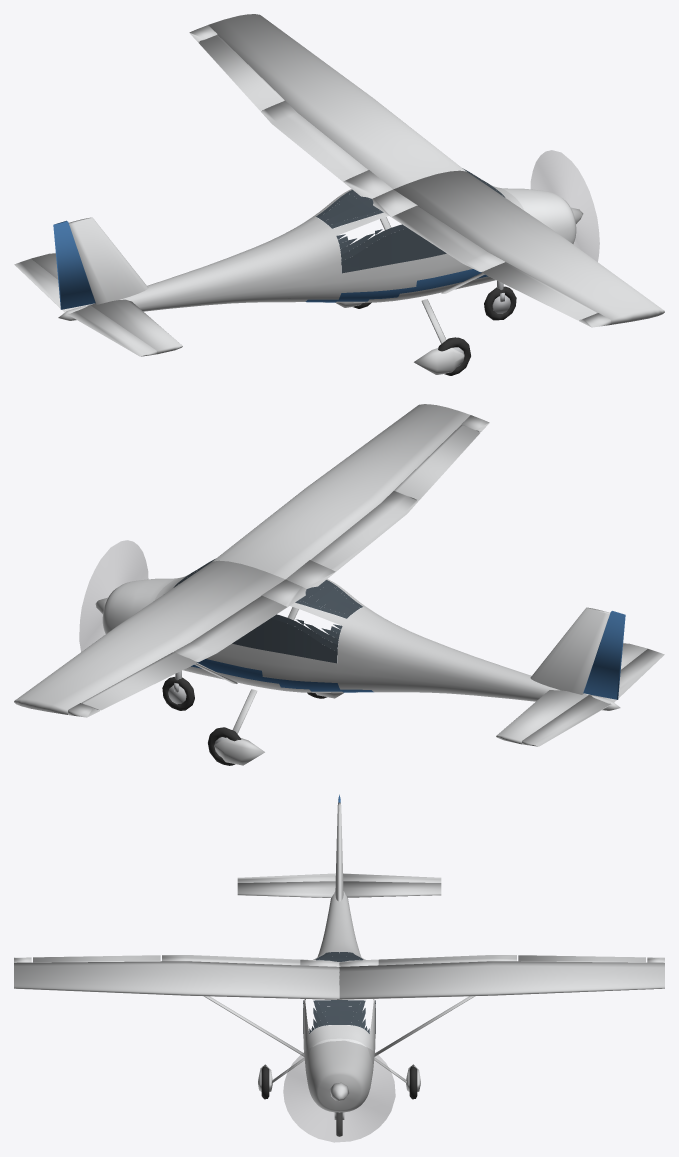
Rendered from wren_lod1.glb.
3 renders of one model, top to bottom at view 1: azimuth 30°, elevation 25°; view 2: azimuth 150°, elevation 25°; view 3: azimuth 270°, elevation 25°, orthographic. The views are drawn at different scales.
Visible parts, largest first — view 1: fuselage, wing_L, wing_R, glass, fin, prop_1_disc, flap_L_1, flap_R_1, elevator, stabilizer, rudder, aileron_L (+3 smaller); view 2: fuselage, wing_R, wing_L, glass, fin, prop_1_disc, flap_R_1, flap_L_1, elevator, stabilizer, rudder, aileron_R (+3 smaller); view 3: wing_R, wing_L, prop_1_disc, fuselage, stabilizer, glass, elevator, flap_R_1, flap_L_1, aileron_R, aileron_L, fin.
Part boxes in pixels (x1=…): fuselage: x1=58, y1=185, x2=576, y2=320; wing_L: x1=189, y1=14, x2=466, y2=198; wing_R: x1=372, y1=170, x2=664, y2=327; glass: x1=316, y1=168, x2=505, y2=273; fin: x1=68, y1=217, x2=148, y2=304; prop_1_disc: x1=531, y1=150, x2=599, y2=261; flap_L_1: x1=260, y1=101, x2=367, y2=181; flap_R_1: x1=391, y1=205, x2=504, y2=271; elevator: x1=14, y1=258, x2=156, y2=356; stabilizer: x1=31, y1=253, x2=182, y2=354; rudder: x1=53, y1=220, x2=95, y2=309; aileron_L: x1=198, y1=35, x2=284, y2=110; fuselage: x1=102, y1=575, x2=620, y2=710; wing_R: x1=212, y1=404, x2=489, y2=588; wing_L: x1=14, y1=560, x2=306, y2=717; glass: x1=173, y1=559, x2=362, y2=663; fin: x1=530, y1=607, x2=610, y2=694; prop_1_disc: x1=79, y1=540, x2=148, y2=651; flap_R_1: x1=310, y1=491, x2=418, y2=571; flap_L_1: x1=174, y1=596, x2=287, y2=662; elevator: x1=522, y1=649, x2=664, y2=746; stabilizer: x1=496, y1=643, x2=647, y2=744; rudder: x1=583, y1=611, x2=625, y2=699; aileron_R: x1=394, y1=425, x2=480, y2=500; wing_R: x1=14, y1=957, x2=339, y2=999; wing_L: x1=339, y1=957, x2=664, y2=999; prop_1_disc: x1=283, y1=1041, x2=395, y2=1142; fuselage: x1=303, y1=891, x2=375, y2=1112; stabilizer: x1=237, y1=881, x2=441, y2=897; glass: x1=303, y1=952, x2=375, y2=1033; elevator: x1=237, y1=873, x2=441, y2=882; flap_R_1: x1=162, y1=955, x2=300, y2=965; flap_L_1: x1=378, y1=955, x2=516, y2=965; aileron_R: x1=33, y1=955, x2=160, y2=962; aileron_L: x1=518, y1=955, x2=645, y2=962; fin: x1=335, y1=802, x2=343, y2=901.
Size of the model in its own units: 8.35 by 3.08 by 11.
